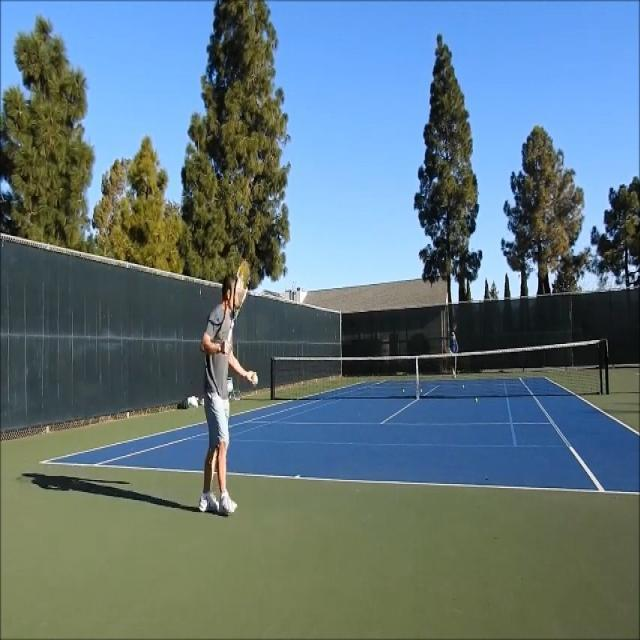court: (38, 378, 640, 494)
net: (270, 334, 612, 400)
player: (199, 259, 259, 516)
